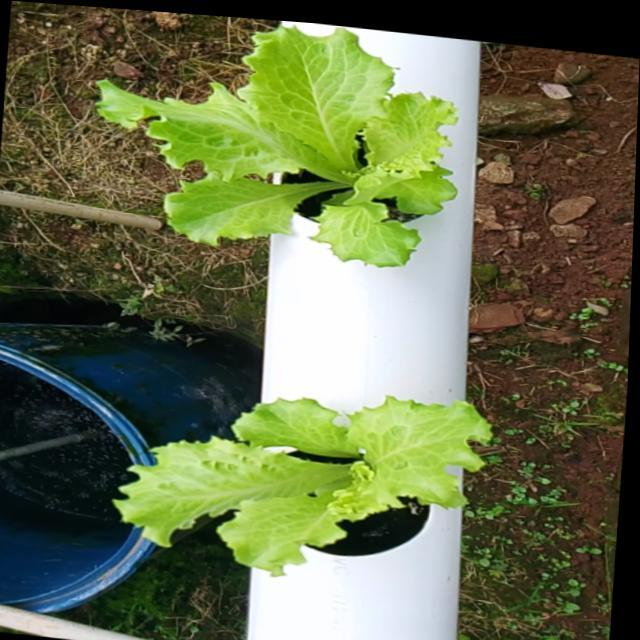Baby: (99, 25, 460, 265), (115, 400, 492, 579)
